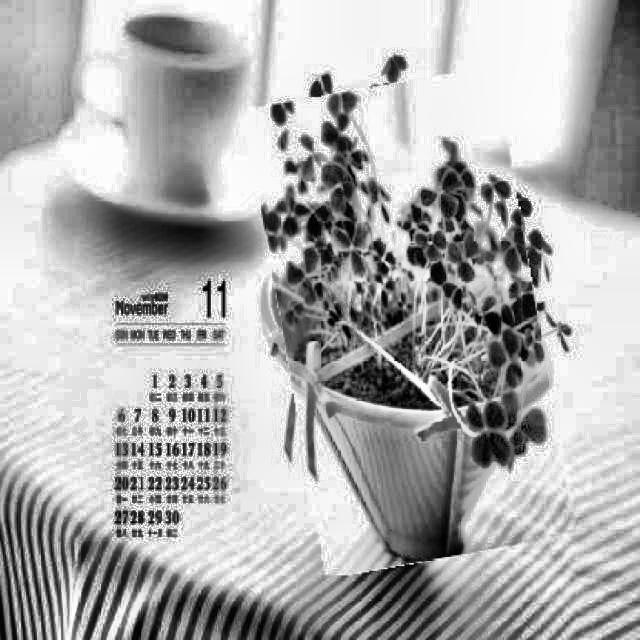plants: (264, 76, 556, 569)
